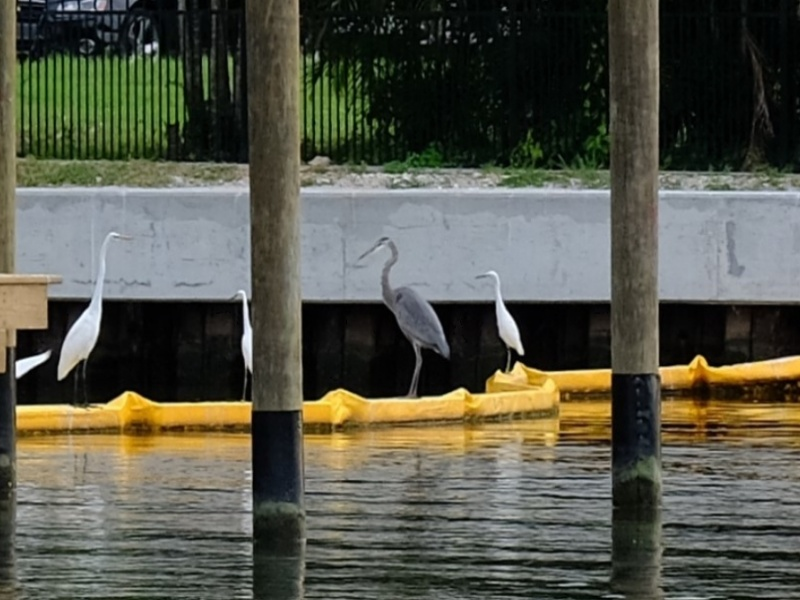heron: (360, 237, 452, 405), (51, 227, 129, 411), (475, 267, 529, 379), (229, 287, 255, 405)
